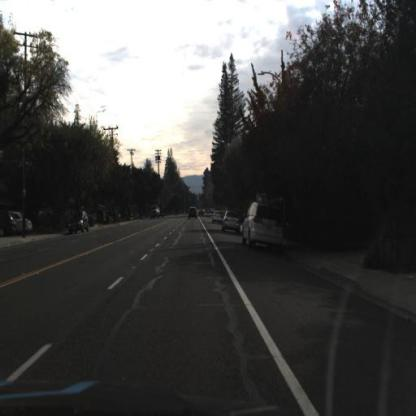car: (240, 200, 285, 249), (0, 210, 33, 237), (66, 206, 90, 235), (221, 210, 241, 234), (212, 206, 223, 224)
